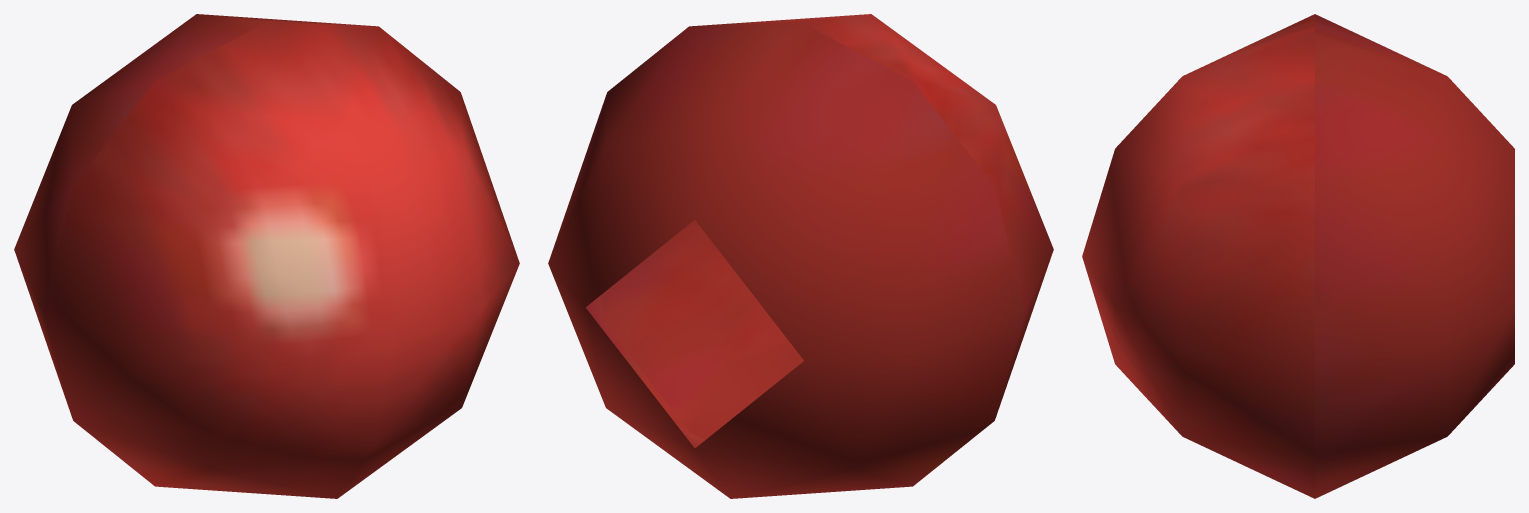
File: acc_face0001.fbx
3 renders of one model, left to right at view 1: azimuth 30°, elevation 25°; view 2: azimuth 150°, elevation 25°; view 3: azimuth 270°, elevation 25°, orthographic. The views are drawn at different scales.
Parts seen in each view (by area): view 1: acc_face0001; view 2: acc_face0001; view 3: acc_face0001.
Boxes of the visible parts, x1,y1,x2,y2 form: acc_face0001: [14, 14, 519, 498]; acc_face0001: [548, 14, 1053, 498]; acc_face0001: [1082, 14, 1514, 498].
Size of the model in its own units: 0.0659 by 0.0659 by 0.0586.
Materials: 1 (1 with a texture image).
